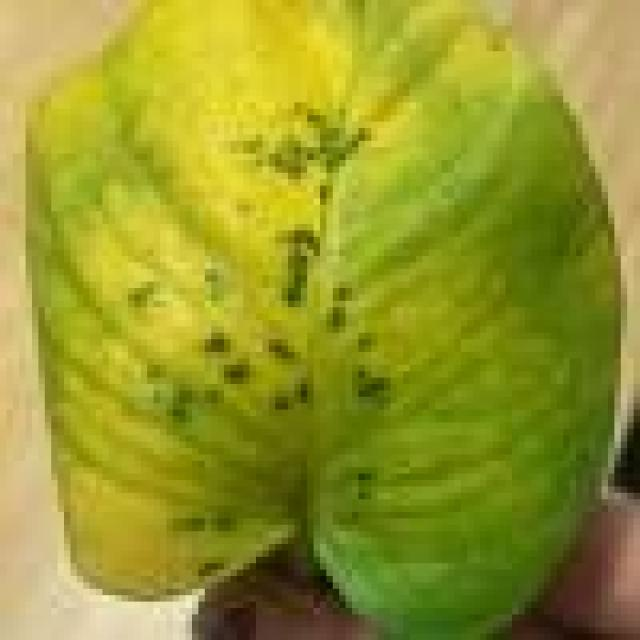Panama: (86, 76, 438, 547)
